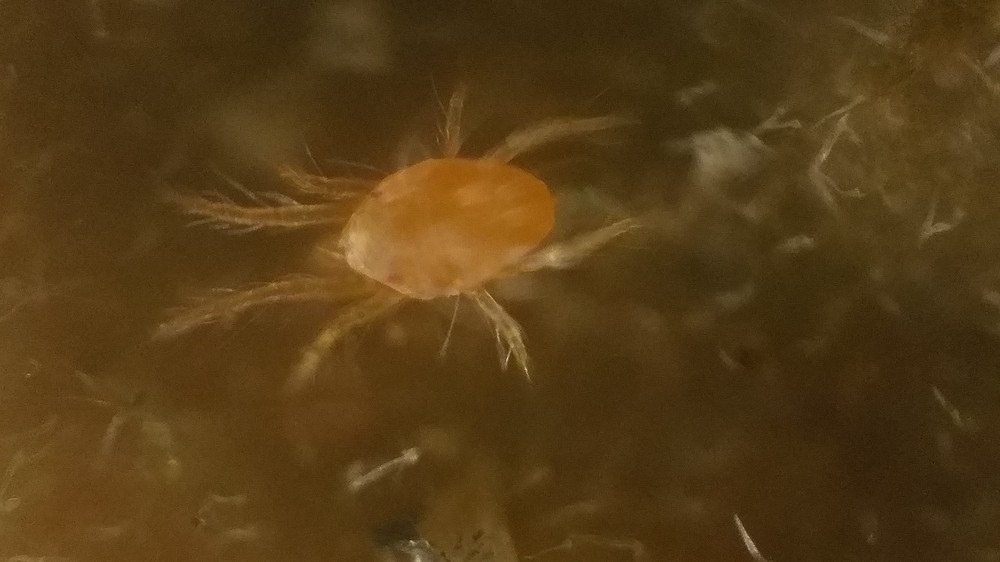Aracnido Rojo: (197, 92, 676, 401)
